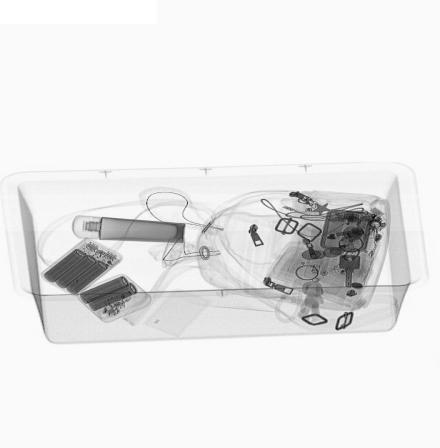Powerbank: (40, 238, 128, 298), (72, 276, 152, 323)
